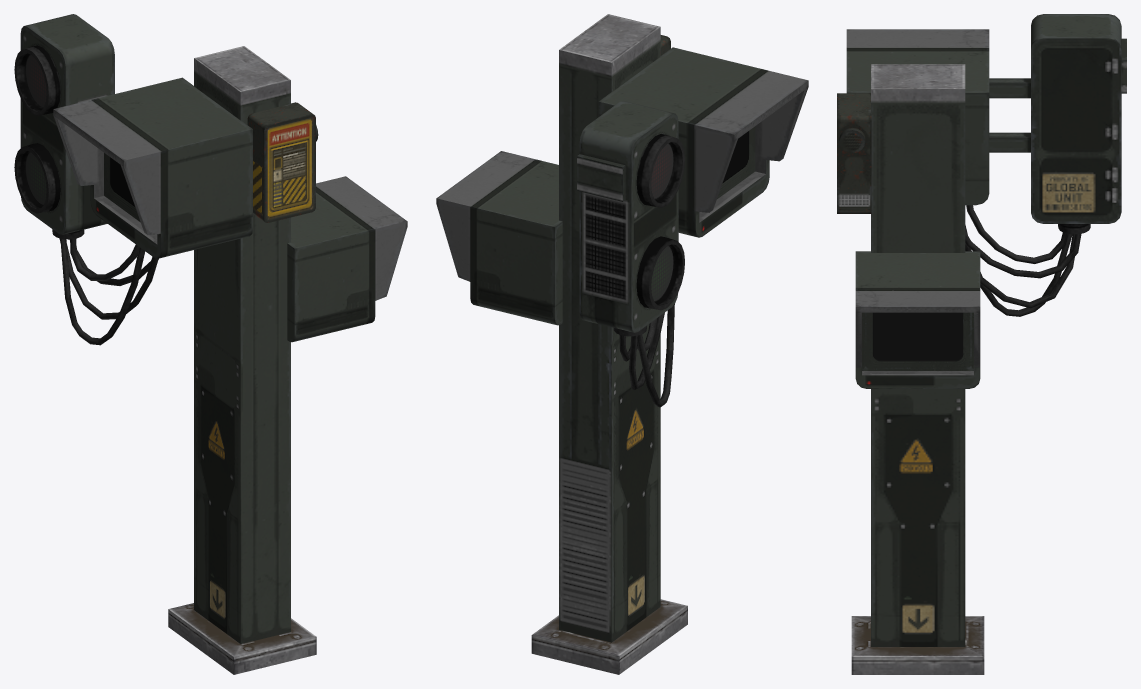
Rendered from CP_Traffic_Light_01.fbx.
3 views of the same model, side by side, from view 1: azimuth 30°, elevation 25°; view 2: azimuth 150°, elevation 25°; view 3: azimuth 270°, elevation 25° (orthographic). The views are drawn at different scales.
Visible parts, largest first — view 1: CP_Traffic_Light_01_LOD0, CP_Traffic_Light_01_02, CP_Traffic_Light_01_01; view 2: CP_Traffic_Light_01_LOD0, CP_Traffic_Light_01_02, CP_Traffic_Light_01_01; view 3: CP_Traffic_Light_01_LOD0.
Boxes of the visible parts, x1,y1,x2,y2 form: CP_Traffic_Light_01_LOD0: (14,14,407,674); CP_Traffic_Light_01_02: (25,152,46,205); CP_Traffic_Light_01_01: (25,54,46,107); CP_Traffic_Light_01_LOD0: (436,14,808,674); CP_Traffic_Light_01_02: (651,246,673,301); CP_Traffic_Light_01_01: (651,143,673,199); CP_Traffic_Light_01_LOD0: (837,14,1126,674).
Size of what is drawn, in the model's own units: 88.58 by 169 by 76.37.
